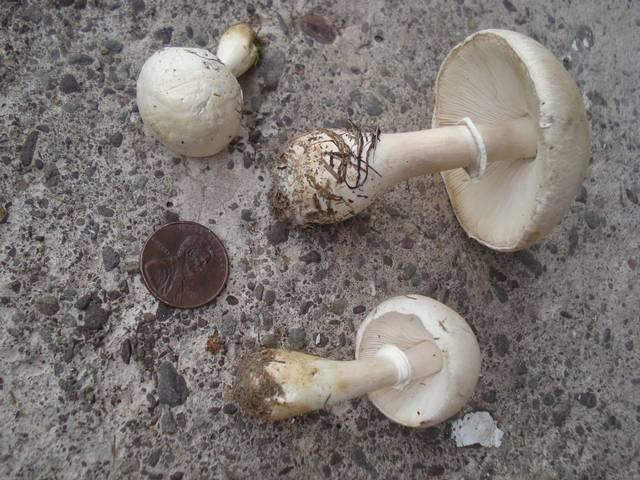Non-edible Mushroom: (268, 27, 592, 253), (230, 291, 481, 429), (134, 0, 315, 155)
